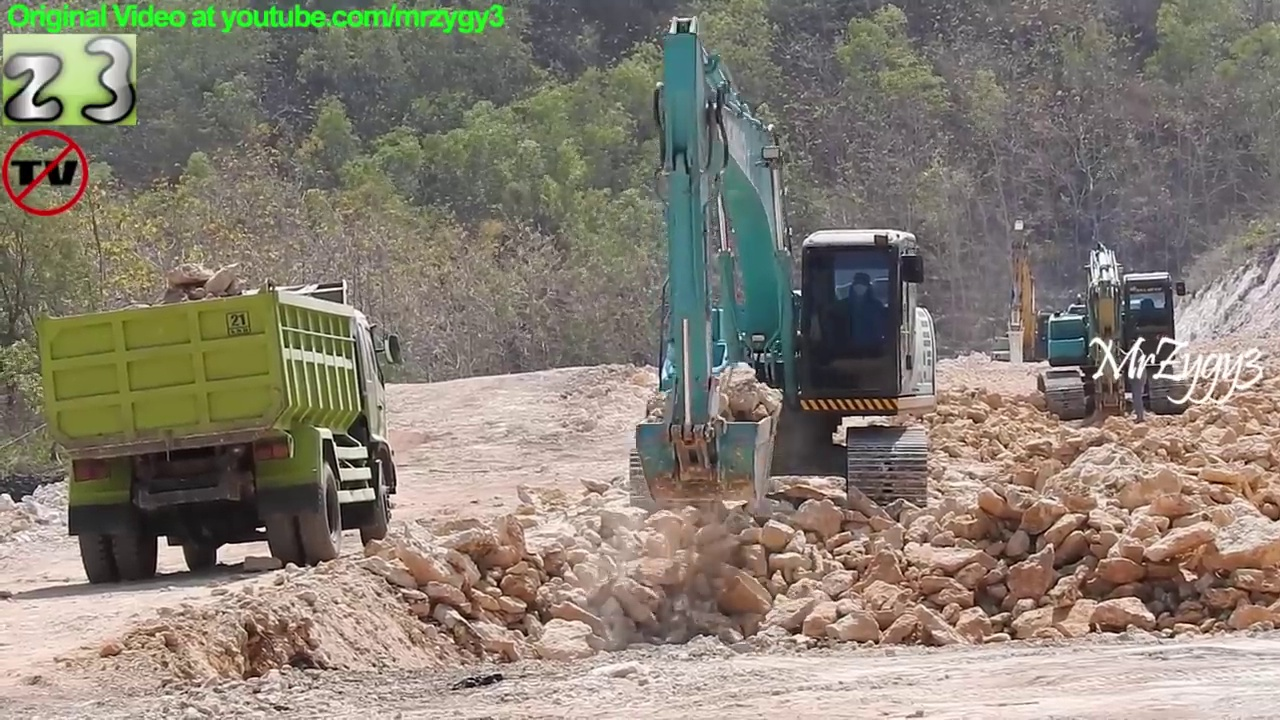excavator: (620, 10, 947, 526), (984, 213, 1071, 381)
excavator breaker: (1036, 231, 1195, 440)
truck: (29, 272, 407, 590)
worker: (1112, 331, 1158, 427)
